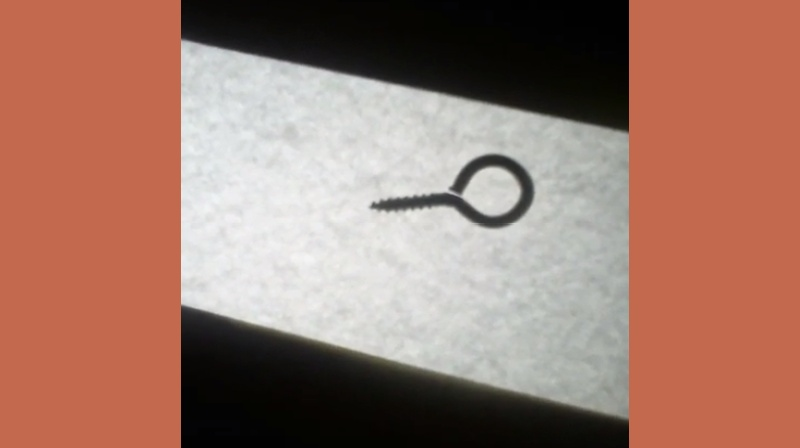O001: (365, 149, 537, 231)
